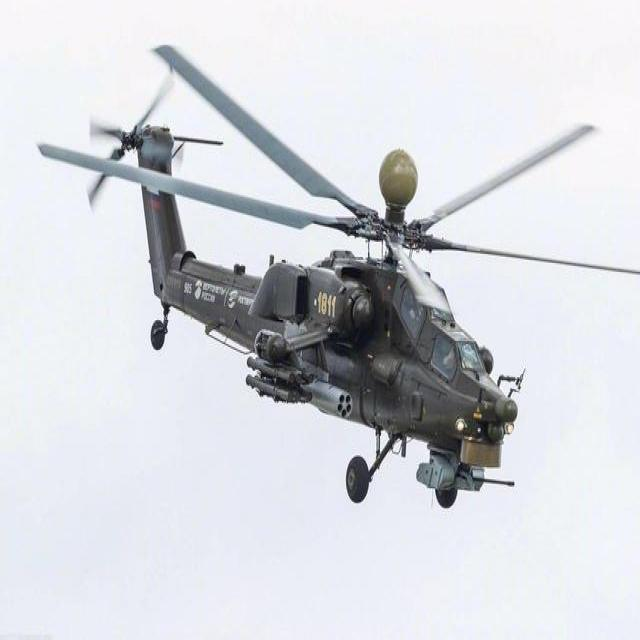MIL_HELO: (30, 39, 640, 535)
